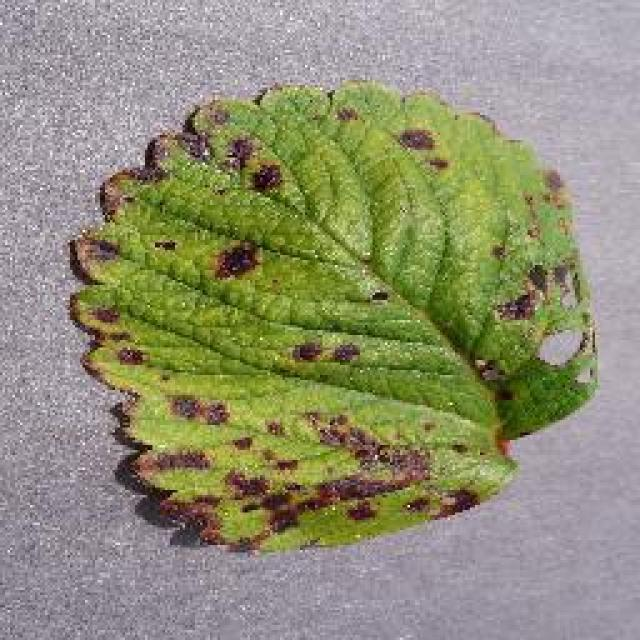Strawberry leaf scorch: (113, 203, 455, 485)
